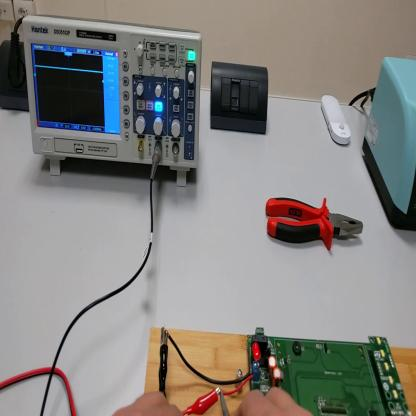hand: (231, 388, 312, 415), (112, 387, 183, 414)
low voltage board: (166, 331, 412, 416)
oscilloscope: (22, 13, 204, 185)
oscilloscope probe tip: (218, 392, 229, 416)
pliers: (266, 195, 365, 256)
socket: (2, 41, 31, 114)
welder station: (363, 58, 416, 231)
working area: (147, 331, 416, 414)
